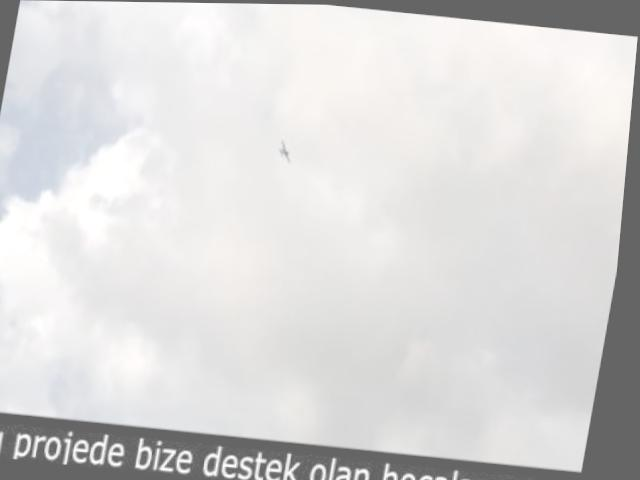uav: (265, 125, 308, 170)
